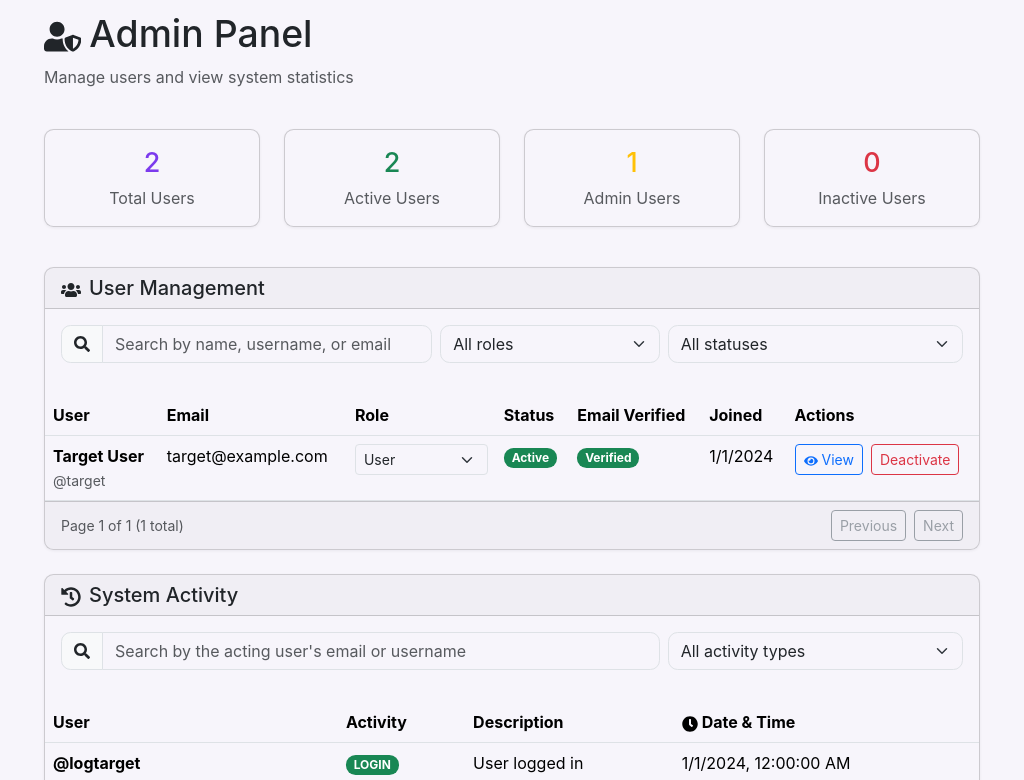
Test case: AdminPanel › shows an error message when a role update fails
Expected: the text "target@example.com" is shown, left=159, top=436, right=347, bottom=501
Select "Admin" in the dropdown named "role for target@example.com". click: (421,460)
box: left=355, top=444, right=488, bottom=475
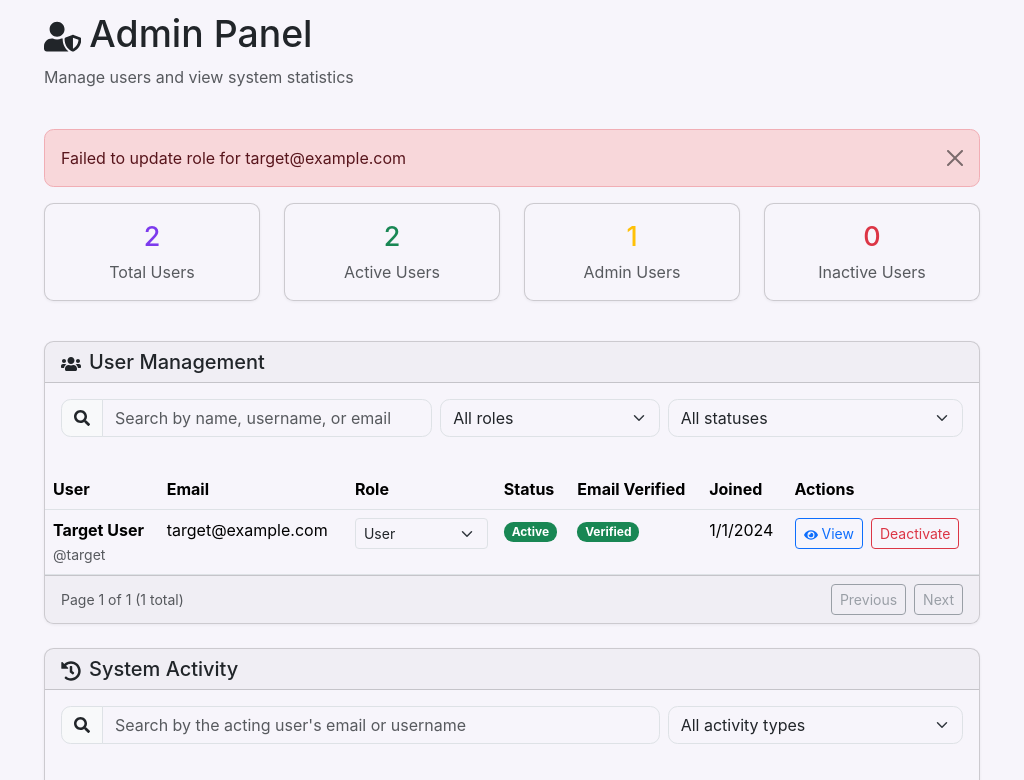
Expected: the text "Failed to update role for target@example.com" is shown, left=44, top=129, right=980, bottom=187
